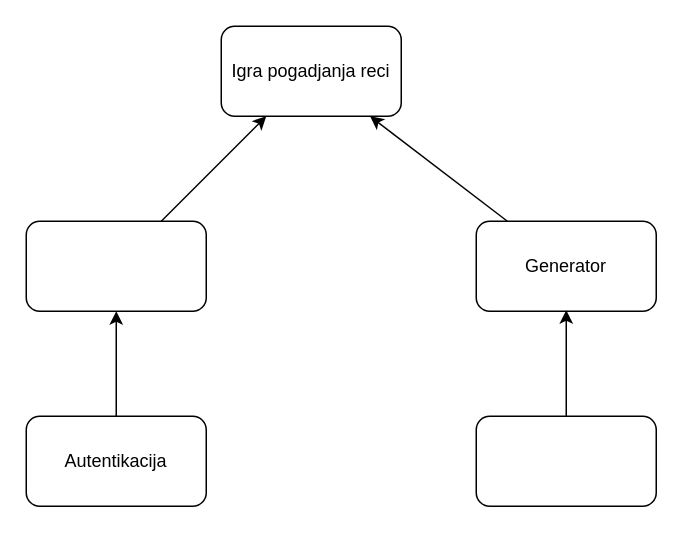
The diagram is 683 pixels wide and 533 high, and some of its shapes have lost their labels. The shapes that lost their labels are listed below. From the top down, each one's centre as x and y in pixels, then its label:
At [115,265]: "Igrac".
At [565,460]: "Reci".
